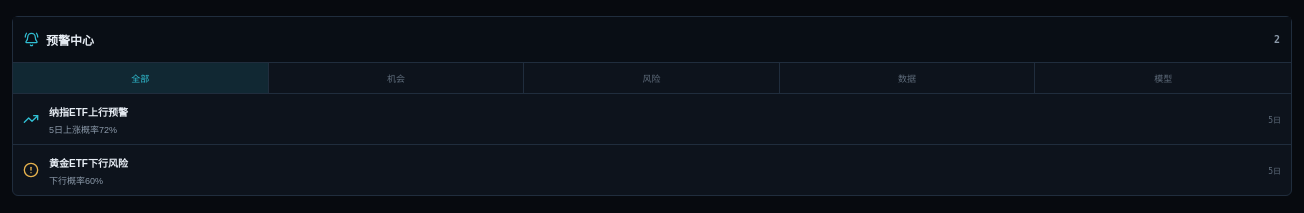
Test: AlertCenter › filters alerts with keyboard-accessible buttons
Click the button "机会".
click(396, 78)  # box x1=269 y1=63 x2=524 y2=93
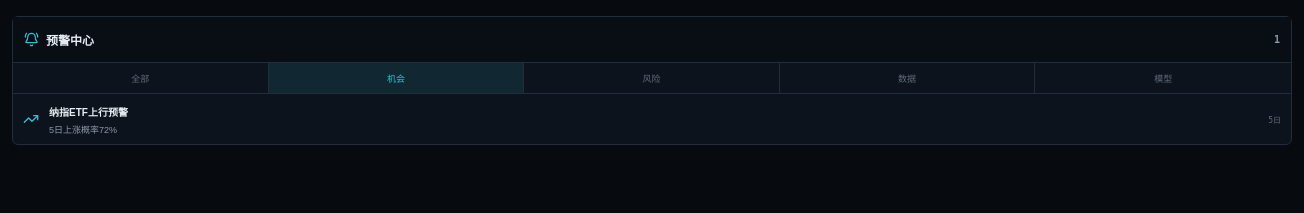
Expected: the text "纳指ETF上行预警" is shown, x1=49 y1=107 x2=128 y2=118
Expected: the text "黄金ETF下行风险" is gone
